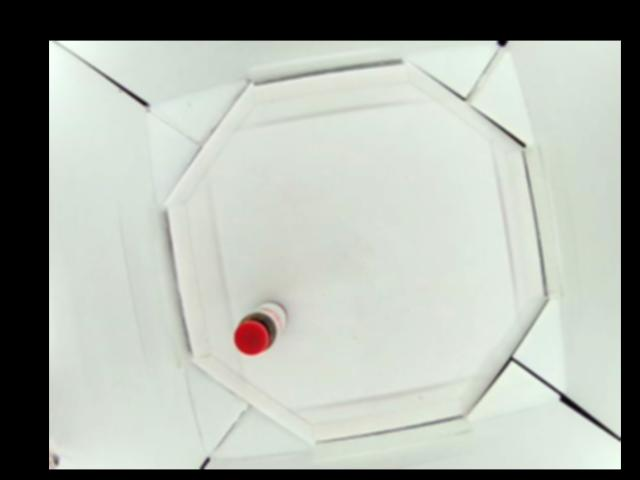Medicine: (234, 304, 287, 355)
